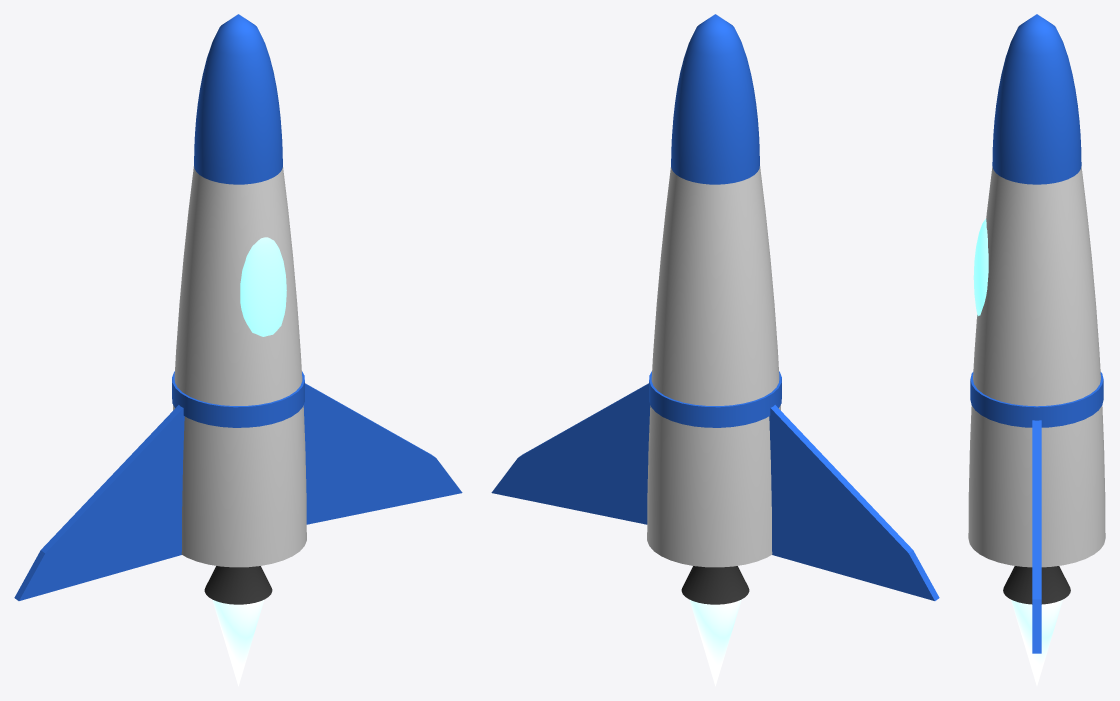
Rendered from Rocket_16_StratoWing.fbx.
3 renders of one model, left to right at view 1: azimuth 30°, elevation 25°; view 2: azimuth 150°, elevation 25°; view 3: azimuth 270°, elevation 25°, orthographic.
Visible parts, largest first — view 1: R16_Body, R16_Fin_2, R16_Fin_1, R16_Nose, R16_Cockpit, R16_Band_1, R16_Flame_1, R16_Nozzle_1; view 2: R16_Body, R16_Fin_2, R16_Fin_1, R16_Nose, R16_Band_1, R16_Flame_1, R16_Nozzle_1; view 3: R16_Body, R16_Nose, R16_Band_1, R16_Fin_1, R16_Nozzle_1, R16_Flame_1, R16_Cockpit.
Part boxes in pixels (box(x1,y1,x2,y2)): R16_Body: box(173, 166, 306, 567); R16_Fin_2: box(14, 405, 184, 600); R16_Fin_1: box(303, 383, 462, 524); R16_Nose: box(194, 14, 282, 184); R16_Cockpit: box(240, 237, 286, 336); R16_Band_1: box(172, 371, 304, 427); R16_Flame_1: box(212, 599, 264, 686); R16_Nozzle_1: box(204, 566, 272, 604); R16_Body: box(647, 166, 780, 567); R16_Fin_2: box(769, 405, 939, 600); R16_Fin_1: box(491, 383, 650, 524); R16_Nose: box(671, 14, 759, 184); R16_Band_1: box(649, 371, 781, 427); R16_Flame_1: box(689, 599, 741, 686); R16_Nozzle_1: box(681, 566, 749, 604); R16_Body: box(968, 166, 1105, 567); R16_Nose: box(992, 14, 1081, 184); R16_Band_1: box(970, 372, 1103, 427); R16_Fin_1: box(1032, 420, 1041, 653); R16_Nozzle_1: box(1003, 566, 1070, 604); R16_Flame_1: box(1011, 599, 1062, 685); R16_Cockpit: box(973, 219, 988, 316).
Bounding box in the file's own units: 6.73 × 9.75 × 1.8.
